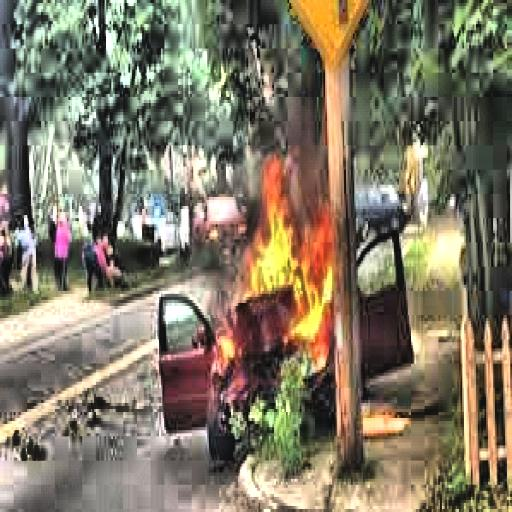fire: (207, 164, 343, 384)
